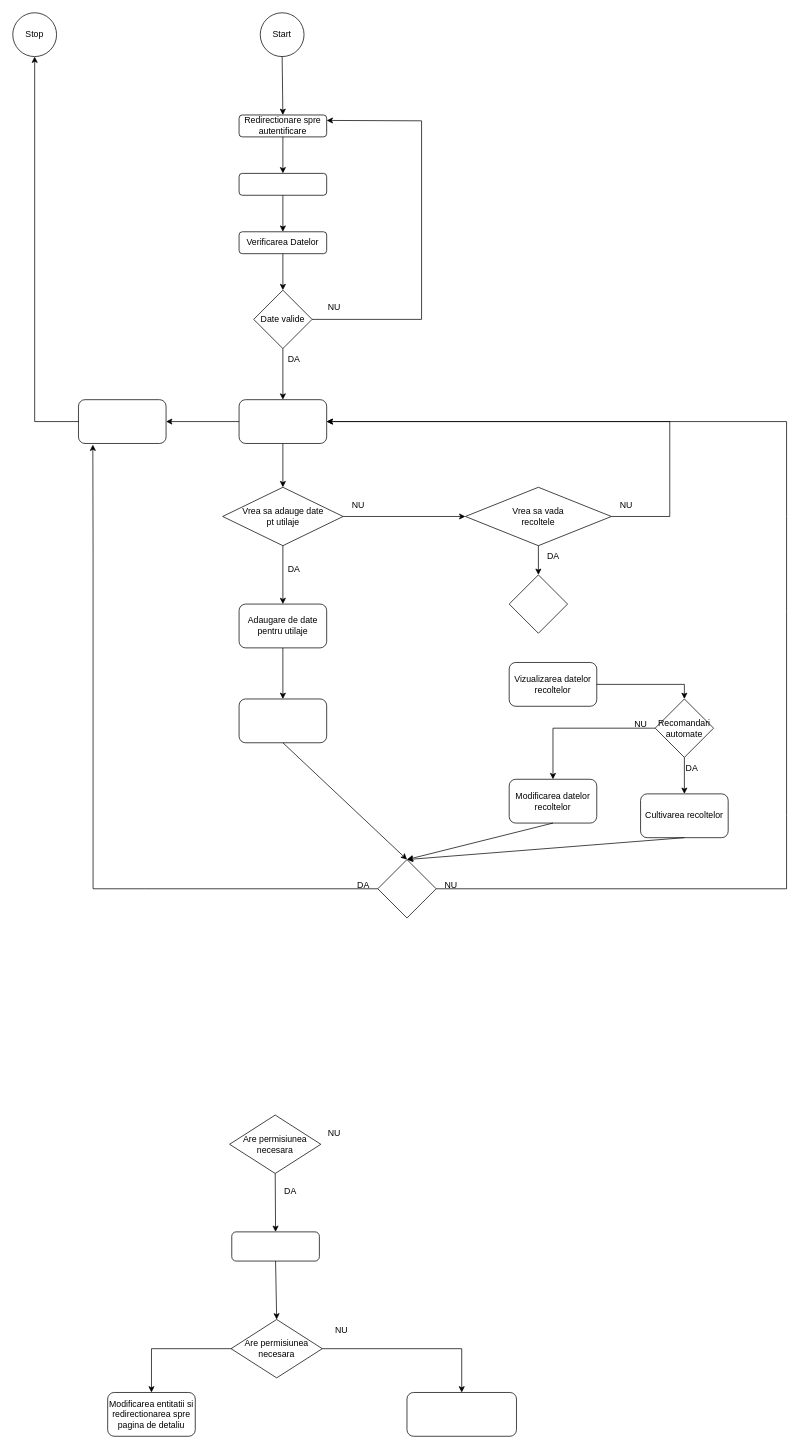
The diagram is 805 pixels wide and 1449 high, and some of its shapes have lost their labels. Each missing label, with the centre of its shape:
"Afisarea erorii si redirectionare spre pagina de autentificare" goes at point (461, 1414).
"Are permisiune?" goes at point (538, 603).
"Delogare" goes at point (122, 421).
"Efectuarea operatiilor pe entitati" goes at point (275, 1246).
"Introducerea datelor" goes at point (282, 184).
"Se doreste delogarea" goes at point (406, 888).
"Vizualizarea datelor utilajelor" goes at point (282, 720).
"Vizualizarea vremii si viteza vantului" goes at point (282, 421).
